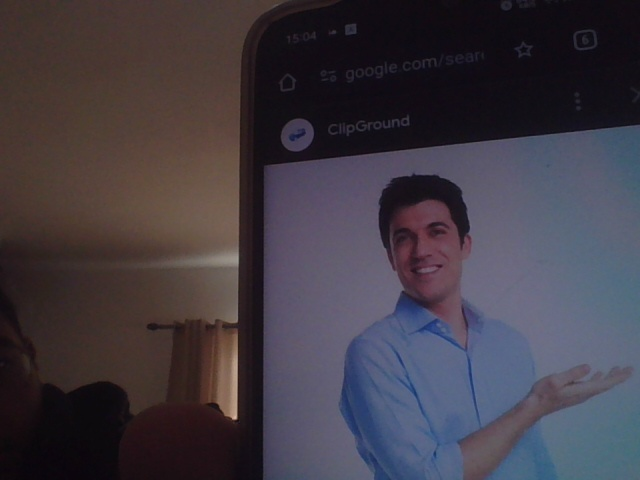fake: (381, 166, 478, 303)
